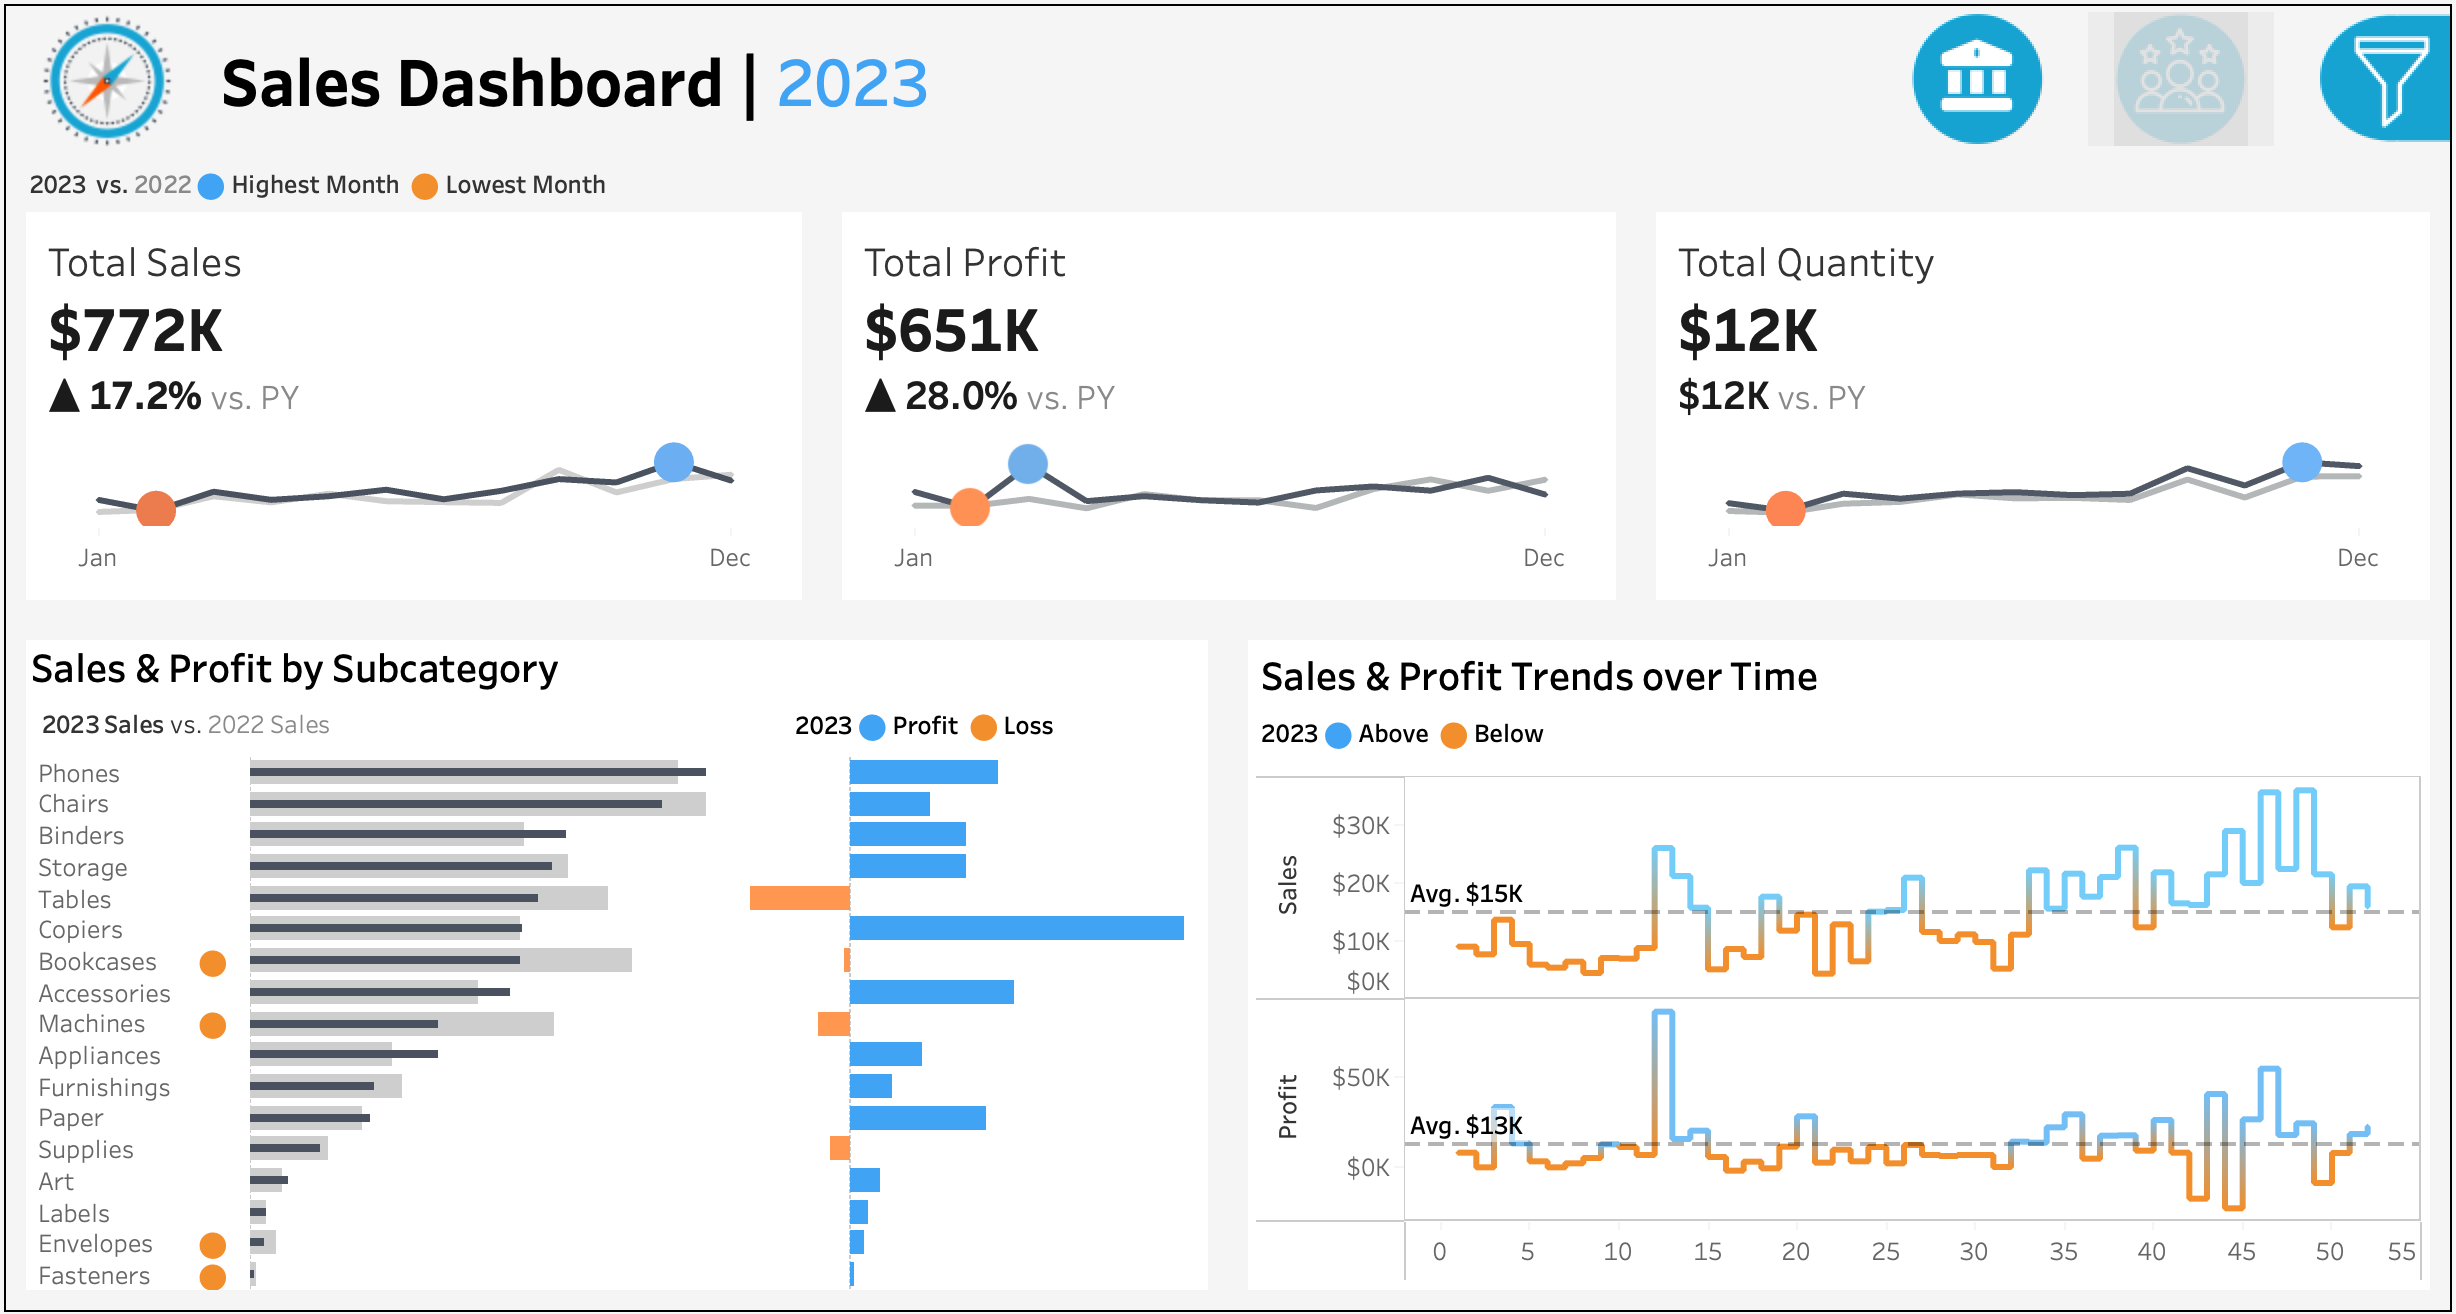

The page's visual inventory and layout, read from the dashboard file:
{"tool":"tableau","page":{"name":"Sales Dashboard","canvas":[1224,654],"ordinal":0},"visuals":[{"type":"dashboard-object","box":[936,0,102,75]},{"type":"dashboard-object","box":[1038,0,101,75]},{"type":"image","param":"Image/Icon - Logo.png","box":[1,1,101.5,75]},{"type":"text","box":[102.5,1,1037,75]},{"type":"blank","box":[1139.5,1,83.5,75]},{"type":"blank","box":[1021,9,193,91]},{"type":"worksheet","title":"Legend KPI","mark":"Automatic","box":[1,76,1222,28]},{"type":"text","box":[1021,100,193,44]},{"type":"worksheet","title":"KPI Sales","mark":"Automatic","rows":["Calculation_263531001866326016"],"cols":["Order Date"],"box":[1,104,408,204]},{"type":"worksheet","title":"KPI Profits","mark":"Automatic","rows":["Calculation_142215287862153221"],"cols":["Order Date"],"box":[409,104,407,204]},{"type":"worksheet","title":"KPI Quantity","mark":"Automatic","rows":["Calculation_190066033933762565"],"cols":["Order Date"],"box":[816,104,407,204]},{"type":"parameter","param":"[Parameters].[Parameter 1]","box":[1021,144,193,57]},{"type":"text","box":[1021,201,193,29]},{"type":"filter","title":"KPI Sales","param":"[federated.0o0hele1s4hxis19wgv770k23e3j].[none:Category:nk]","box":[1021,230,193,62]},{"type":"filter","title":"KPI Sales","param":"[federated.0o0hele1s4hxis19wgv770k23e3j].[none:Sub-Category:nk]","box":[1021,292,193,57]},{"type":"text","box":[11,318,591,26]},{"type":"text","box":[622,318,591,34]},{"type":"worksheet","title":"Legend Subcategory","mark":"Automatic","box":[11,344,378,32]},{"type":"text","box":[389,344,213,32]},{"type":"blank","box":[1021,349,193,38]},{"type":"text","box":[622,352,591,25]},{"type":"worksheet","title":"Subcategory Comparison","mark":"Bar","rows":["Sub-Category","Calculation_219761643990941696"],"cols":["CY (copy)_226376304886190081","Calculation_226376304885981184","Calculation_142215287860572162"],"box":[11,376,591,266.9]},{"type":"worksheet","title":"Weekly Trends","mark":"Automatic","rows":["Calculation_226376304885981184","Calculation_142215287860572162"],"cols":["Order Date"],"box":[622,381.5,591,261.5]},{"type":"text","box":[1021,387,193,29]},{"type":"filter","title":"KPI Sales","param":"[federated.0o0hele1s4hxis19wgv770k23e3j].[none:Region:nk]","box":[1021,416,193,46]},{"type":"filter","title":"KPI Sales","param":"[federated.0o0hele1s4hxis19wgv770k23e3j].[none:State:nk]","box":[1021,462,193,46]},{"type":"filter","title":"KPI Sales","param":"[federated.0o0hele1s4hxis19wgv770k23e3j].[none:City:nk]","box":[1021,508,193,52]}]}

Visuals, with their boxes in screenshot pixels (x1, y1, x2, y2), scaled from the page's 1224x654 canvas onto the 2456x1314 screenshot:
dashboard-object: 1878, 0, 2083, 151
dashboard-object: 2083, 0, 2285, 151
image: 2, 2, 206, 153
text: 206, 2, 2286, 153
blank: 2286, 2, 2454, 153
blank: 2049, 18, 2436, 201
"Legend KPI" worksheet: 2, 153, 2454, 209
text: 2049, 201, 2436, 289
"KPI Sales" worksheet: 2, 209, 821, 619
"KPI Profits" worksheet: 821, 209, 1637, 619
"KPI Quantity" worksheet: 1637, 209, 2454, 619
parameter: 2049, 289, 2436, 404
text: 2049, 404, 2436, 462
"KPI Sales" filter: 2049, 462, 2436, 587
"KPI Sales" filter: 2049, 587, 2436, 701
text: 22, 639, 1208, 691
text: 1248, 639, 2434, 707
"Legend Subcategory" worksheet: 22, 691, 781, 755
text: 781, 691, 1208, 755
blank: 2049, 701, 2436, 778
text: 1248, 707, 2434, 757
"Subcategory Comparison" worksheet (Bar marks): 22, 755, 1208, 1292
"Weekly Trends" worksheet: 1248, 767, 2434, 1292
text: 2049, 778, 2436, 836
"KPI Sales" filter: 2049, 836, 2436, 928
"KPI Sales" filter: 2049, 928, 2436, 1021
"KPI Sales" filter: 2049, 1021, 2436, 1125
